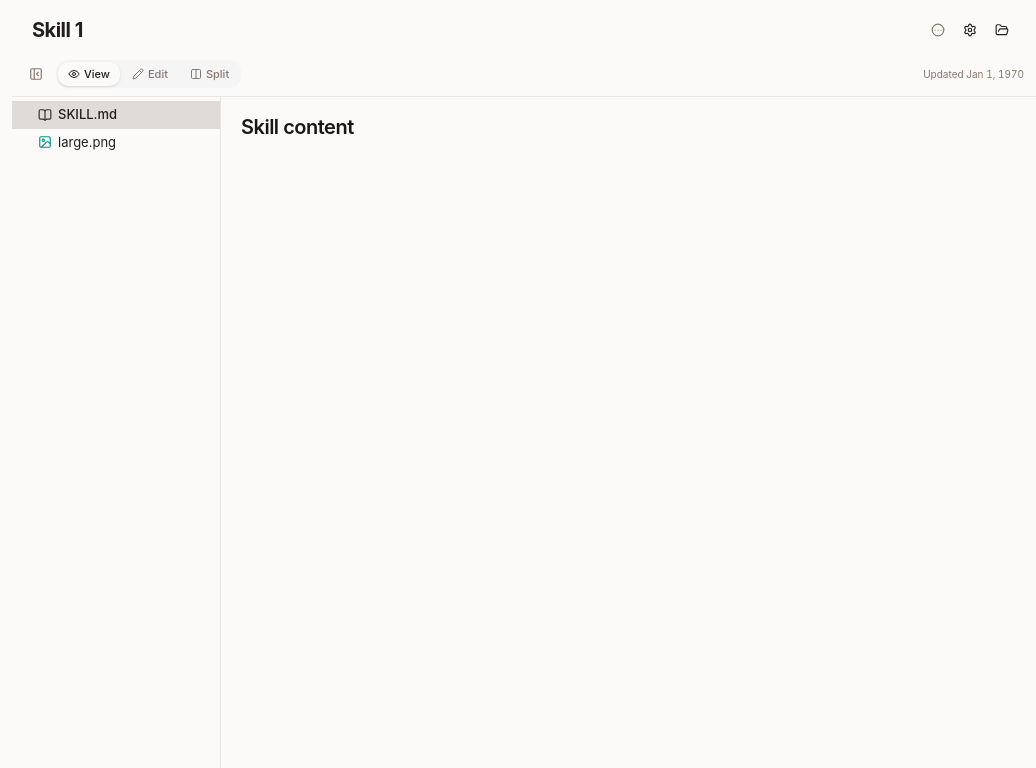
Test case: SkillDetail › shows image-too-large notice from structured image errors
The width and height of the screenshot is (1036, 768).
Click the button "large.png" at {"x": 116, "y": 142}, box [12,128,220,156]
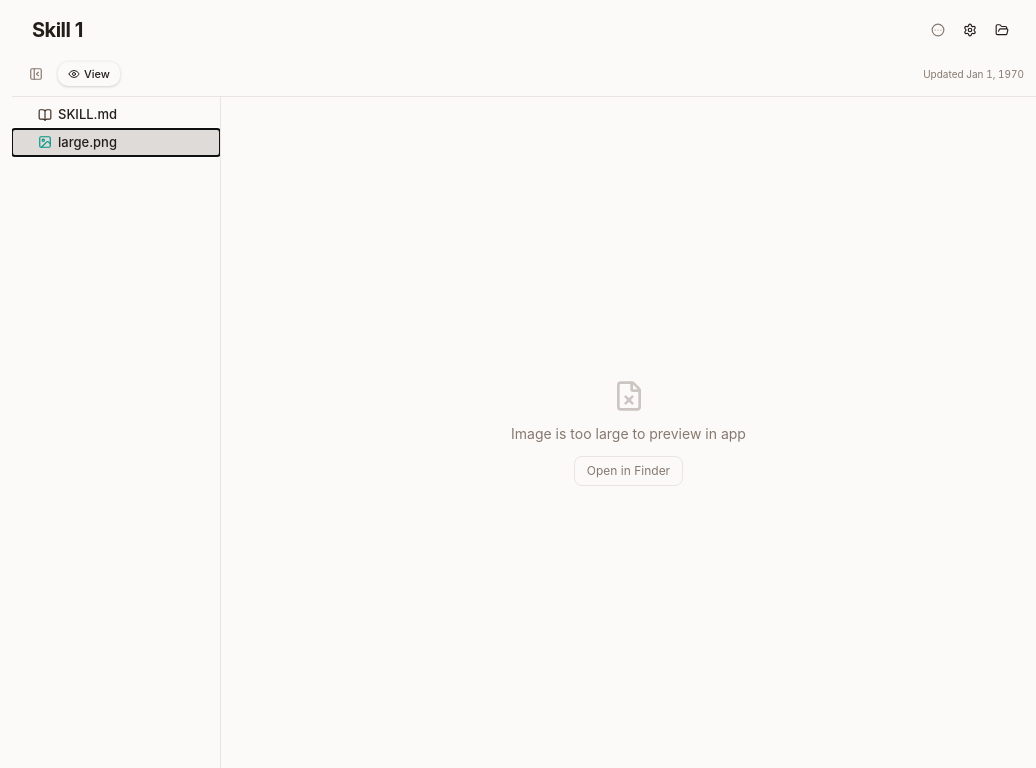
Now the text "Image is too large to preview in app" is shown, box [511,424,746,444]
Now the button "Edit" is gone
Now the button "Split" is gone
